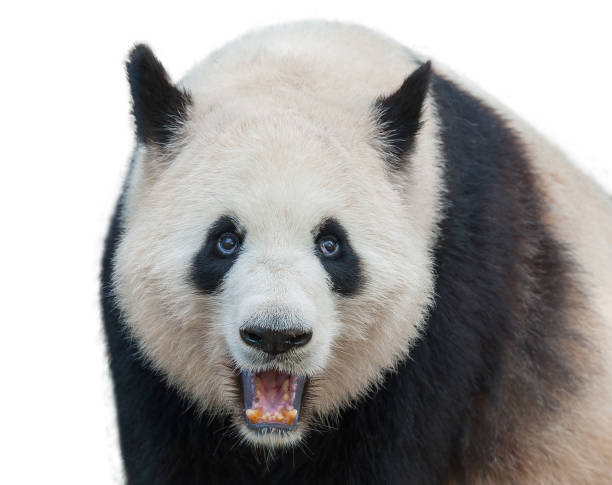panda: (82, 28, 517, 464)
